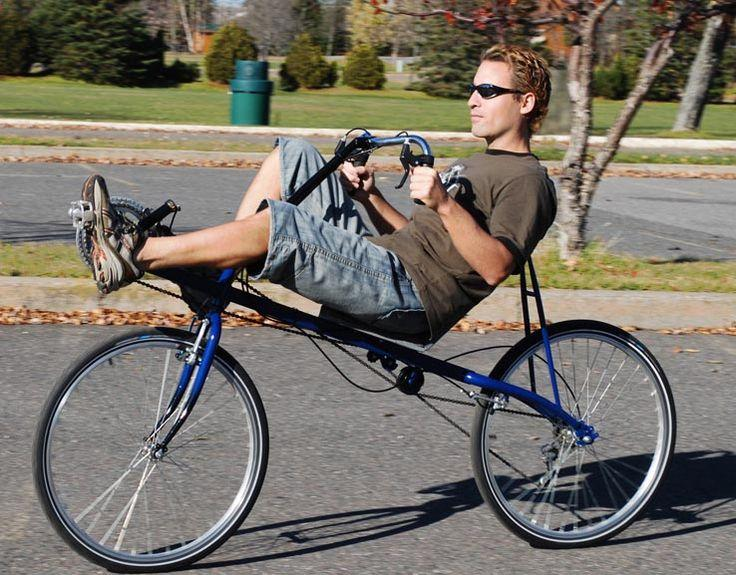bicycle: (17, 131, 689, 572)
